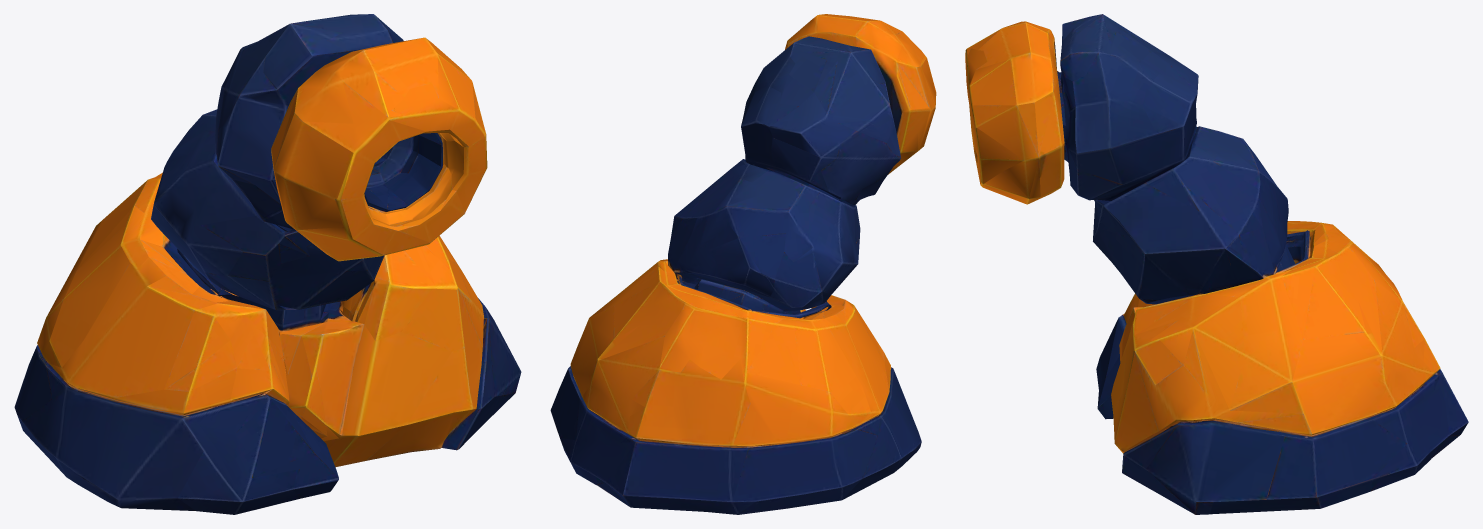
The model's file is 633cc5f0-daba-48fc-bdd8-d96a4c339428_part_12_optimized.glb.
The picture shows the model from 3 angles, left to right: view 1: azimuth 30°, elevation 25°; view 2: azimuth 150°, elevation 25°; view 3: azimuth 270°, elevation 25°; orthographic projection. The views are drawn at different scales.
Parts seen in each view (by area): view 1: output_unwrapped; view 2: output_unwrapped; view 3: output_unwrapped.
Part boxes in pixels (x1,y1,x2,y2): output_unwrapped: [14, 14, 521, 514]; output_unwrapped: [550, 14, 936, 514]; output_unwrapped: [965, 14, 1468, 514].
Size of the model in its own units: 1.56 by 1.63 by 1.9.
Materials: 1 (1 with a texture image).
